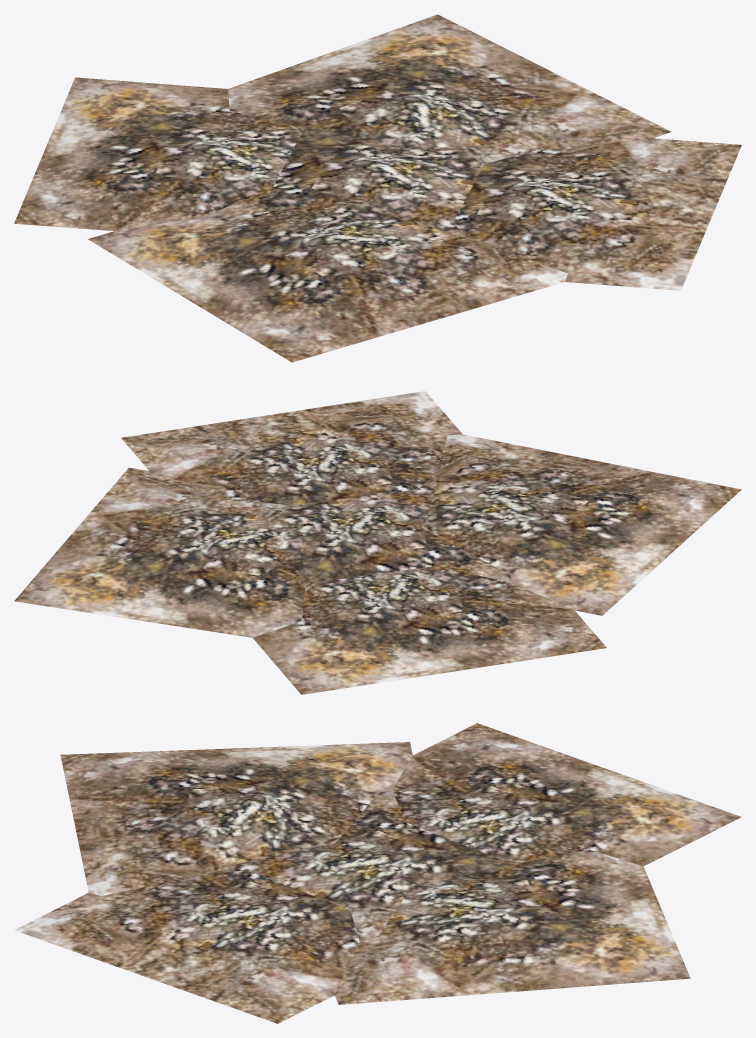
Rendered from building_g_rubble5x5.glb.
3 renders of one model, top to bottom at view 1: azimuth 30°, elevation 25°; view 2: azimuth 150°, elevation 25°; view 3: azimuth 270°, elevation 25°, orthographic. The views are drawn at different scales.
Visible parts, largest first — view 1: MeshRoot; view 2: MeshRoot; view 3: MeshRoot.
Boxes of the visible parts, <box> form: MeshRoot: <box>14,14,741,362</box>; MeshRoot: <box>14,391,741,694</box>; MeshRoot: <box>14,723,741,1023</box>.
Bounding box in the file's own units: 13.91 × 0.3958 × 14.22.
1 material, 1 textured.
